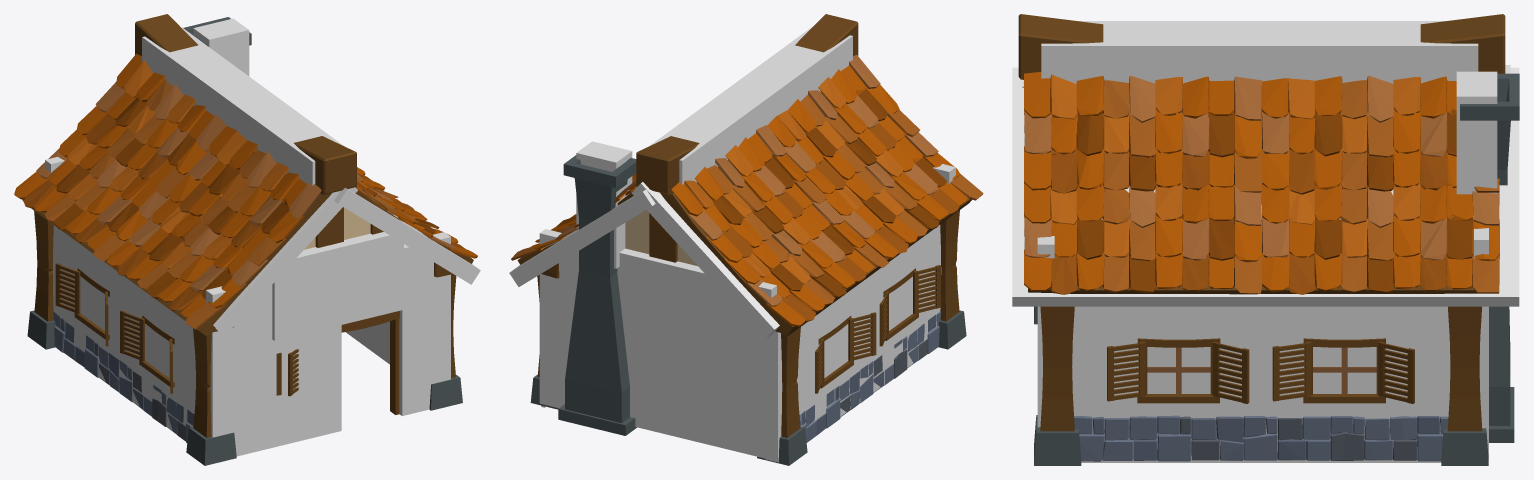
The model's file is house_7.glb.
3 renders of one model, left to right at view 1: azimuth 30°, elevation 25°; view 2: azimuth 150°, elevation 25°; view 3: azimuth 270°, elevation 25°, orthographic. The views are drawn at different scales.
Visible parts, largest first — view 1: House_07, Cube.003, Cube.008, Cube.002, Cube.018, Cube.007, Cube.006, Cube.005, Cube.019, Cube.001; view 2: House_07, Cube.004, Cube.008, Cube.018, Cube.006, Cube.005, Cube.019; view 3: House_07, Cube.001, Cube.018, Cube.005, Cube.019, Cube.004, Cube.007.
Part boxes in pixels (<box>): House_07: <box>14,14,477,465</box>; Cube.003: <box>206,285,341,456</box>; Cube.008: <box>52,225,195,433</box>; Cube.002: <box>272,232,403,340</box>; Cube.018: <box>142,27,343,185</box>; Cube.007: <box>399,232,450,415</box>; Cube.006: <box>213,187,357,336</box>; Cube.005: <box>334,188,480,284</box>; Cube.019: <box>193,18,249,75</box>; Cube.001: <box>346,321,389,364</box>; House_07: <box>511,14,983,465</box>; Cube.004: <box>539,229,776,458</box>; Cube.008: <box>765,225,941,462</box>; Cube.018: <box>649,26,852,184</box>; Cube.006: <box>631,182,779,339</box>; Cube.005: <box>509,189,655,286</box>; Cube.019: <box>576,141,632,268</box>; House_07: <box>1018,14,1519,465</box>; Cube.001: <box>1072,306,1450,462</box>; Cube.018: <box>1041,21,1478,83</box>; Cube.005: <box>1012,67,1519,306</box>; Cube.019: <box>1456,71,1497,194</box>; Cube.004: <box>1474,228,1488,457</box>; Cube.007: <box>1037,236,1054,427</box>.
Bounding box in the file's own units: 7.15 × 6.71 × 8.45.
1 material, 1 textured.
